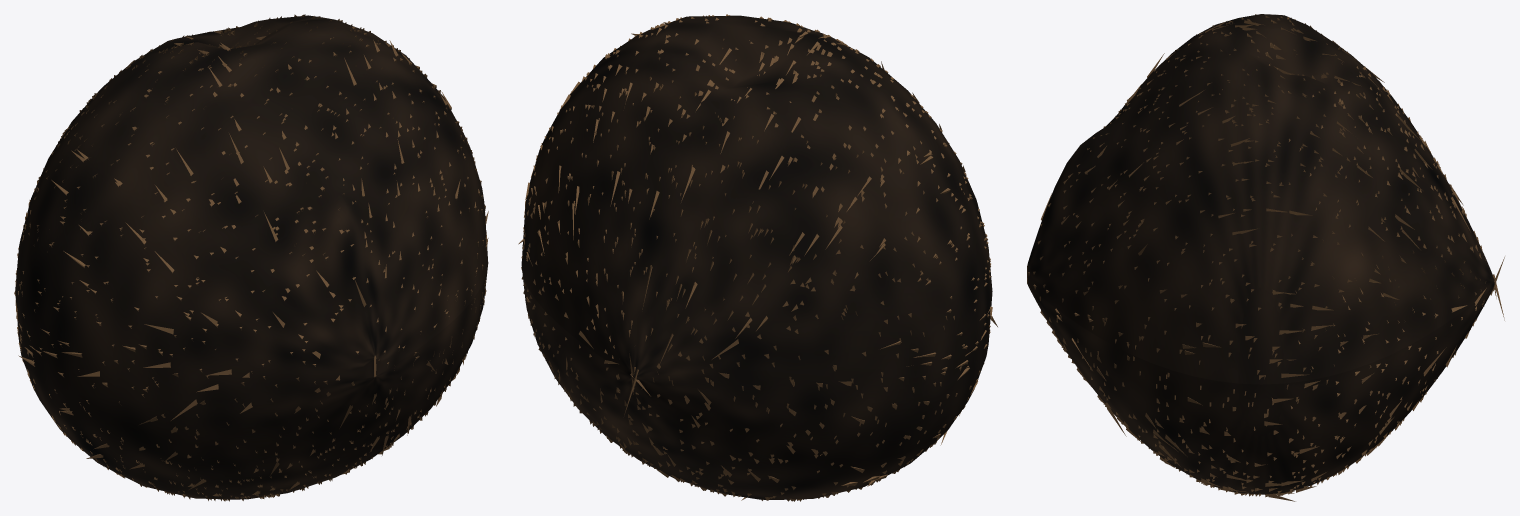
File: Spinne_Cephalothorax.fbx
3 renders of one model, left to right at view 1: azimuth 30°, elevation 25°; view 2: azimuth 150°, elevation 25°; view 3: azimuth 270°, elevation 25°, orthographic. The views are drawn at different scales.
Parts seen in each view (by area): view 1: Spinne_Cephalothorax; view 2: Spinne_Cephalothorax; view 3: Spinne_Cephalothorax.
Boxes of the visible parts, x1=… form: Spinne_Cephalothorax: x1=14, y1=14, x2=488, y2=501; Spinne_Cephalothorax: x1=518, y1=14, x2=997, y2=501; Spinne_Cephalothorax: x1=1027, y1=14, x2=1504, y2=501.
Bounding box in the file's own units: 1 × 1 × 1.
